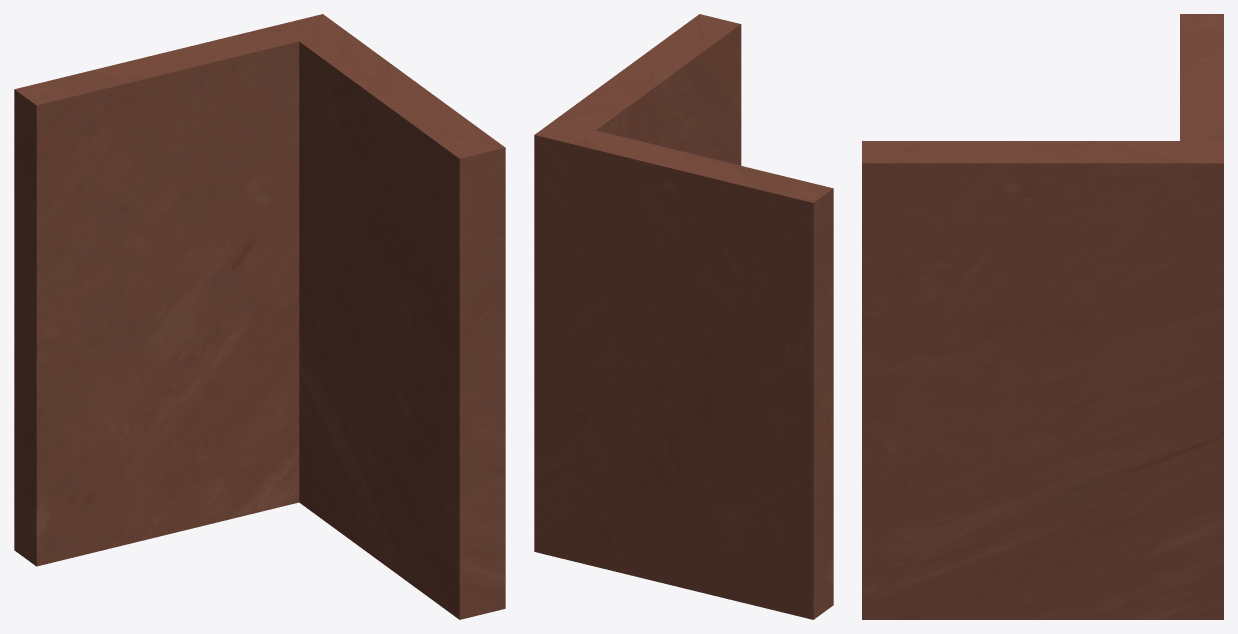
File: Hdb corner wall.fbx
3 views of the same model, side by side, from view 1: azimuth 30°, elevation 25°; view 2: azimuth 150°, elevation 25°; view 3: azimuth 270°, elevation 25° (orthographic). The views are drawn at different scales.
Visible parts, largest first — view 1: pCube118; view 2: pCube118; view 3: pCube118.
Boxes of the visible parts, left/top/right/bottom form: pCube118: left=14, top=14, right=505, bottom=619; pCube118: left=534, top=14, right=833, bottom=619; pCube118: left=862, top=14, right=1223, bottom=619.
Size of the model in its own units: 262 by 374 by 269.
1 material, 1 textured.
